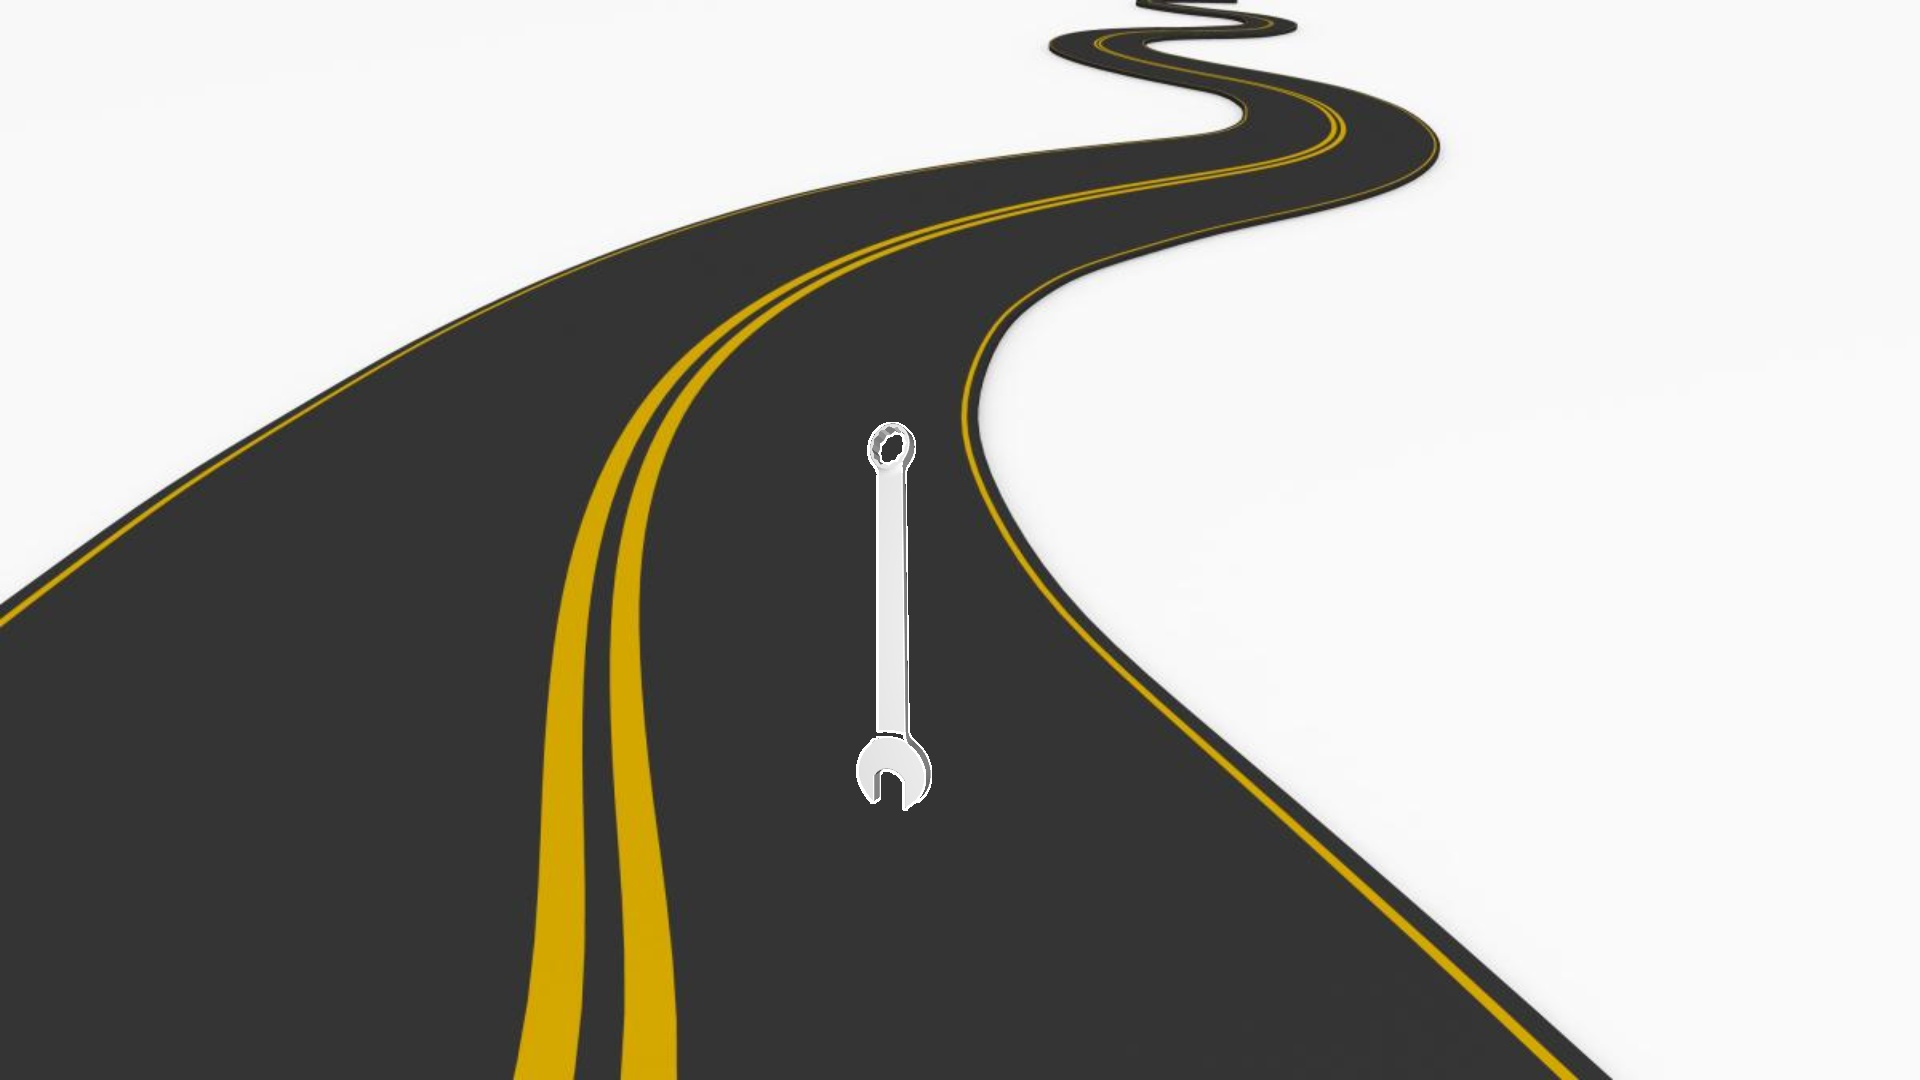Mixed Key: (856, 422, 931, 810)
